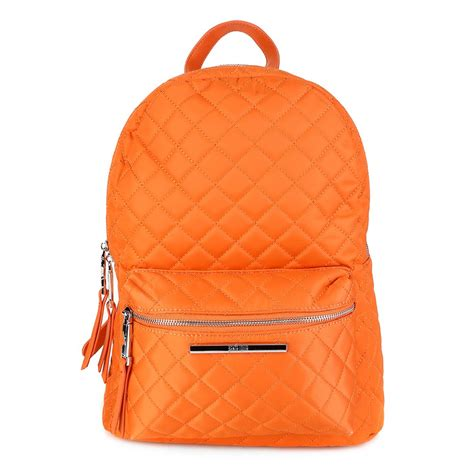nylon: (90, 20, 386, 448)
